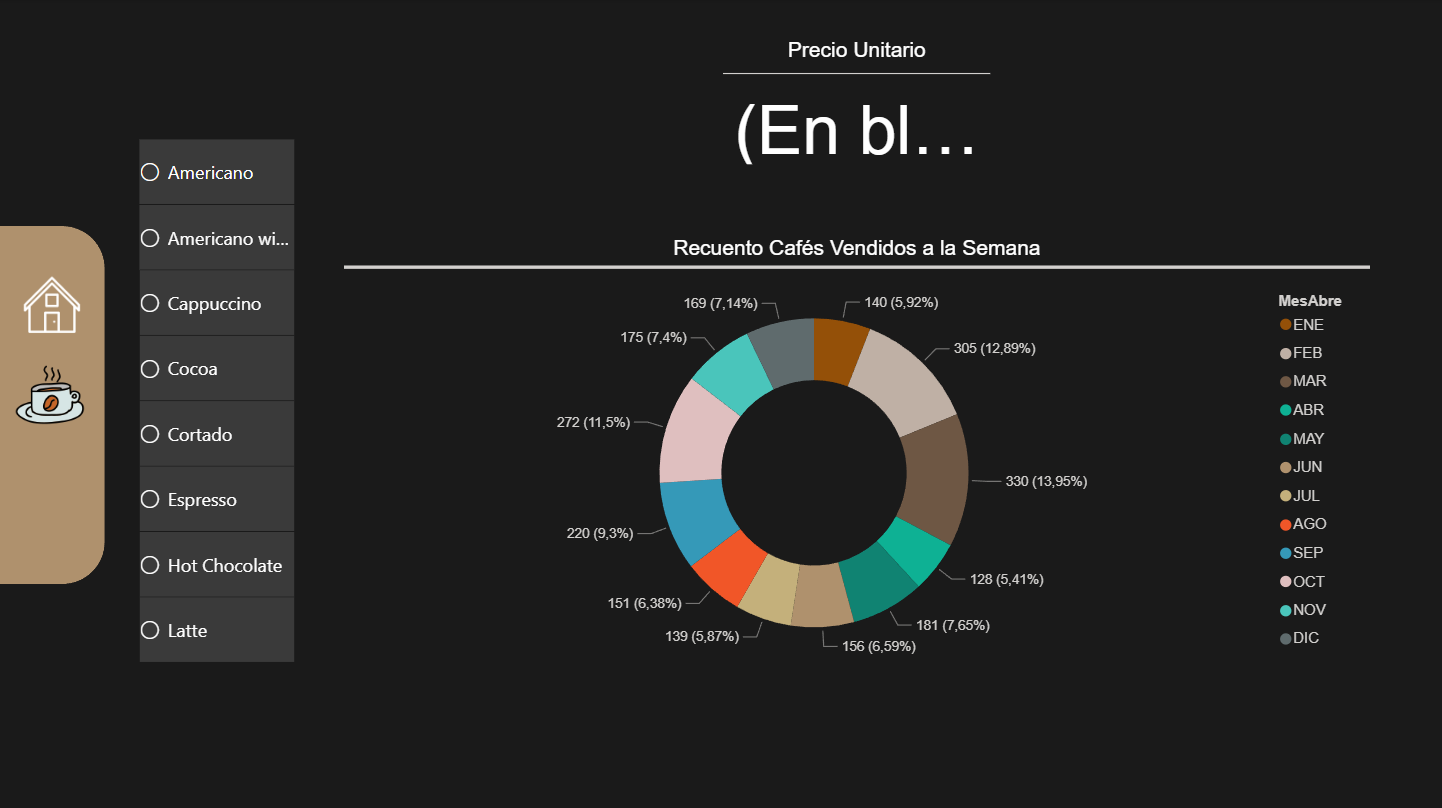

The dashboard page shown, as its layout file describes it:
{"tool":"powerbi","page":{"name":"Pag.2","canvas":[1280,720],"ordinal":1},"visuals":[{"type":"shape","box":[0,201.2,93.8,317.5],"z":0},{"type":"image","title":"home","box":[16.2,241.2,61.2,60],"z":2000},{"type":"image","box":[10,308.8,75,90],"z":3000},{"type":"listSlicer","fields":{"Values":["Coffe_sales.coffee_name"]},"box":[120.1,120.1,147.4,479.5],"z":4000},{"type":"card","title":"Precio Unitario","fields":{"Values":["Coffe_sales.Precio Latte"]},"box":[642,34.3,237.2,116.1],"z":5000},{"type":"donutChart","title":"Recuento Cafés Vendidos a la Semana","fields":{"Y":["Sum(Coffe_sales.Pedido)"],"Category":["TableMeses.MesAbre"]},"box":[305.9,200.9,909.5,399.7],"z":6000}]}

Visuals, with their boxes in screenshot pixels (x1, y1, x2, y2), scaled from the page's 1280x720 canvas onto the 1442x808 screenshot:
shape: detection(0, 226, 106, 582)
"home" image: detection(18, 271, 87, 338)
image: detection(11, 347, 96, 448)
listSlicer - Coffe_sales.coffee_name: detection(135, 135, 301, 673)
"Precio Unitario" card: detection(723, 38, 990, 169)
"Recuento Cafés Vendidos a la Semana" donutChart: detection(345, 225, 1369, 674)
